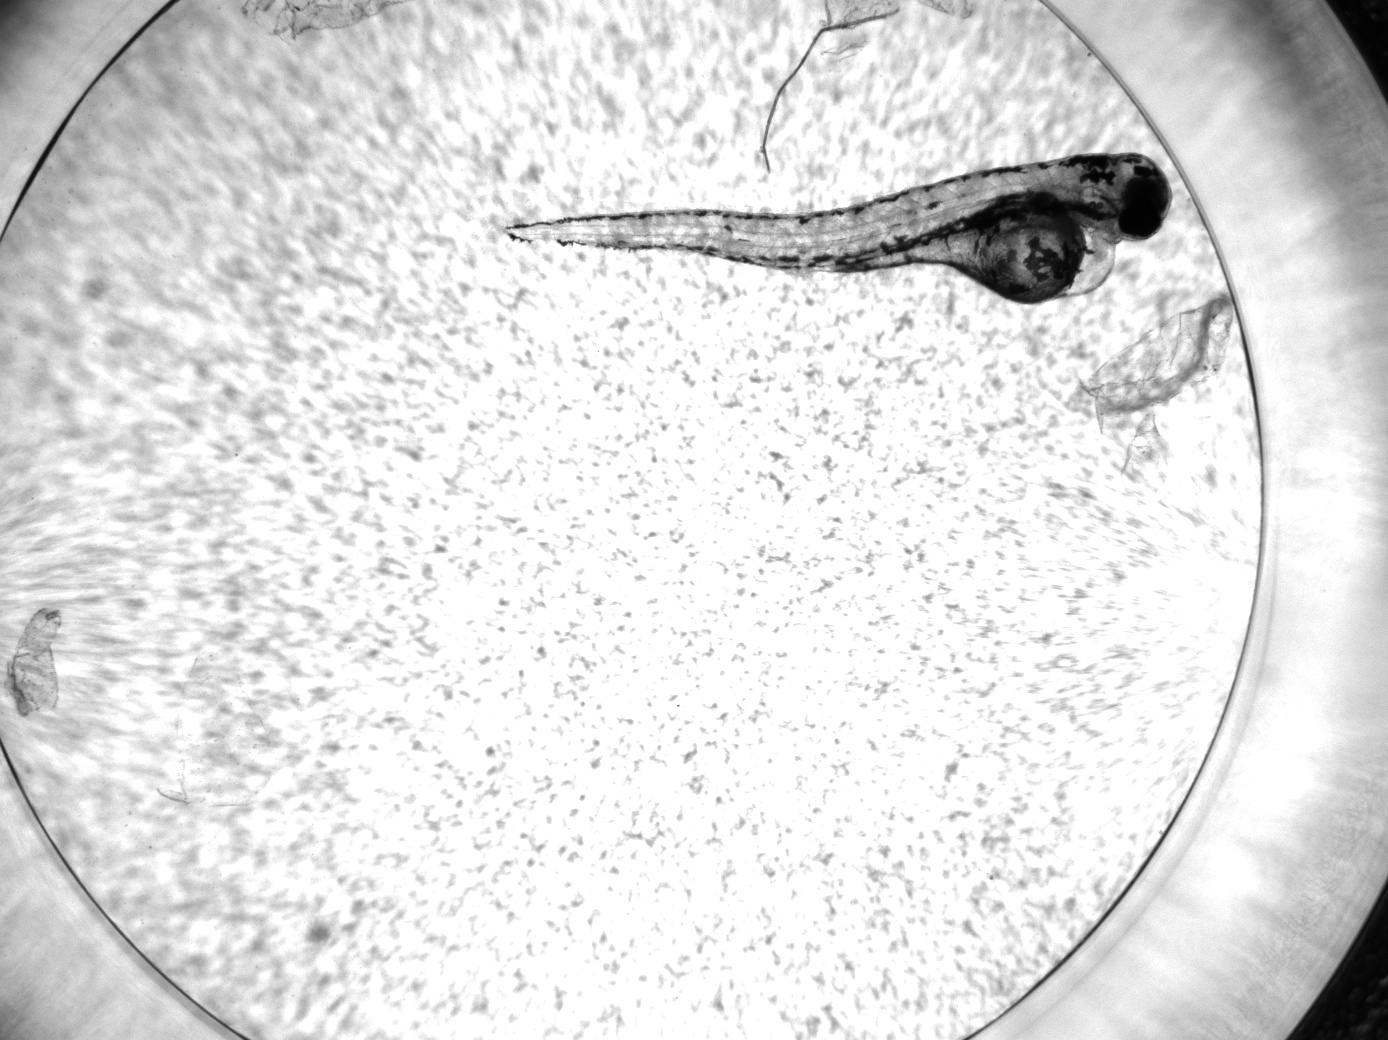debris: (1086, 292, 1236, 482), (760, 1, 900, 177), (5, 606, 62, 716)
embryo: (503, 153, 1176, 305)
eye: (1120, 204, 1161, 238), (1122, 177, 1161, 211)
yolksac: (862, 192, 1116, 302)
